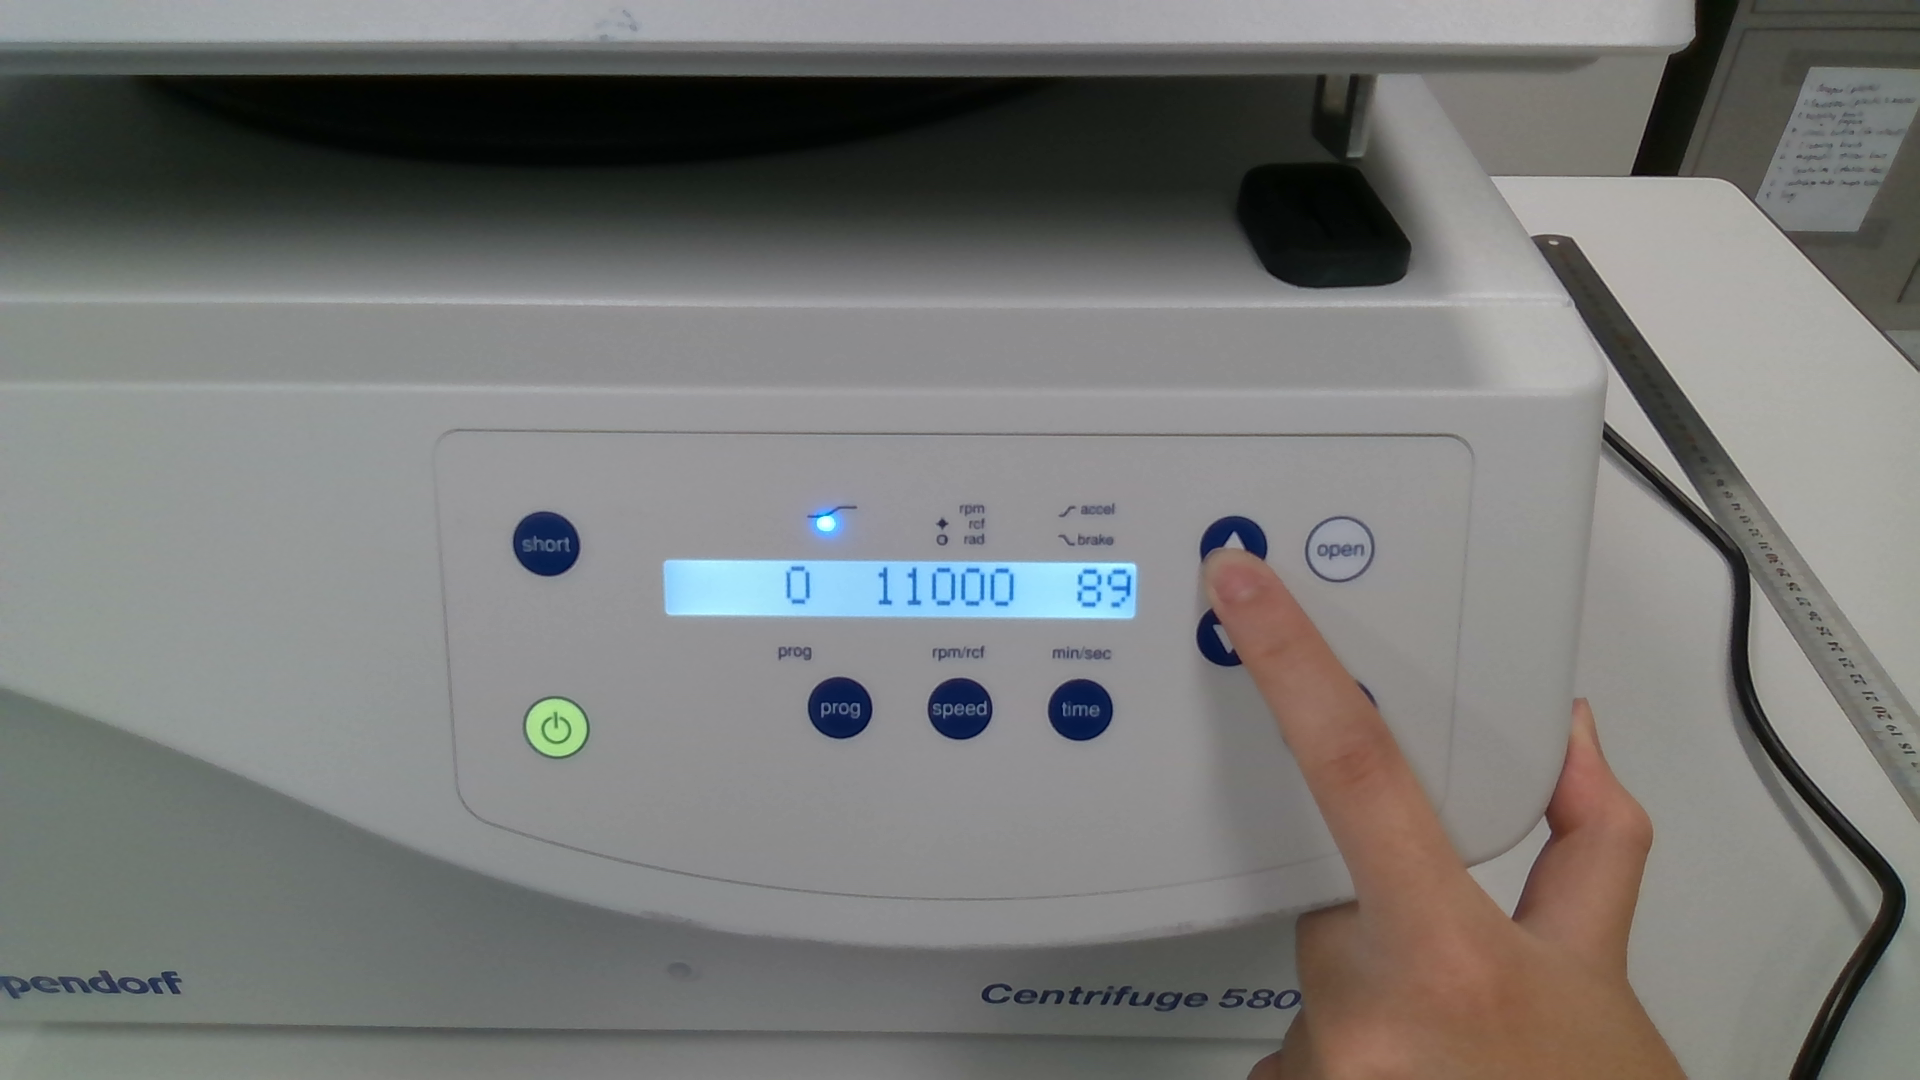0: (786, 566, 811, 605), (931, 567, 956, 607), (960, 568, 985, 607), (989, 568, 1014, 607)
1: (906, 567, 923, 607), (877, 567, 894, 607)
8: (1077, 568, 1102, 608)
9: (1106, 568, 1131, 608)
open_off: (1304, 516, 1375, 584)
power_on: (522, 696, 589, 760)
